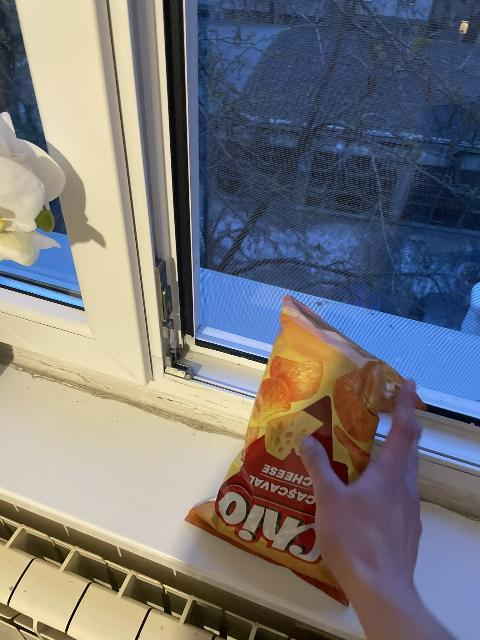Chio Cascaval 125g: (187, 300, 414, 608)
